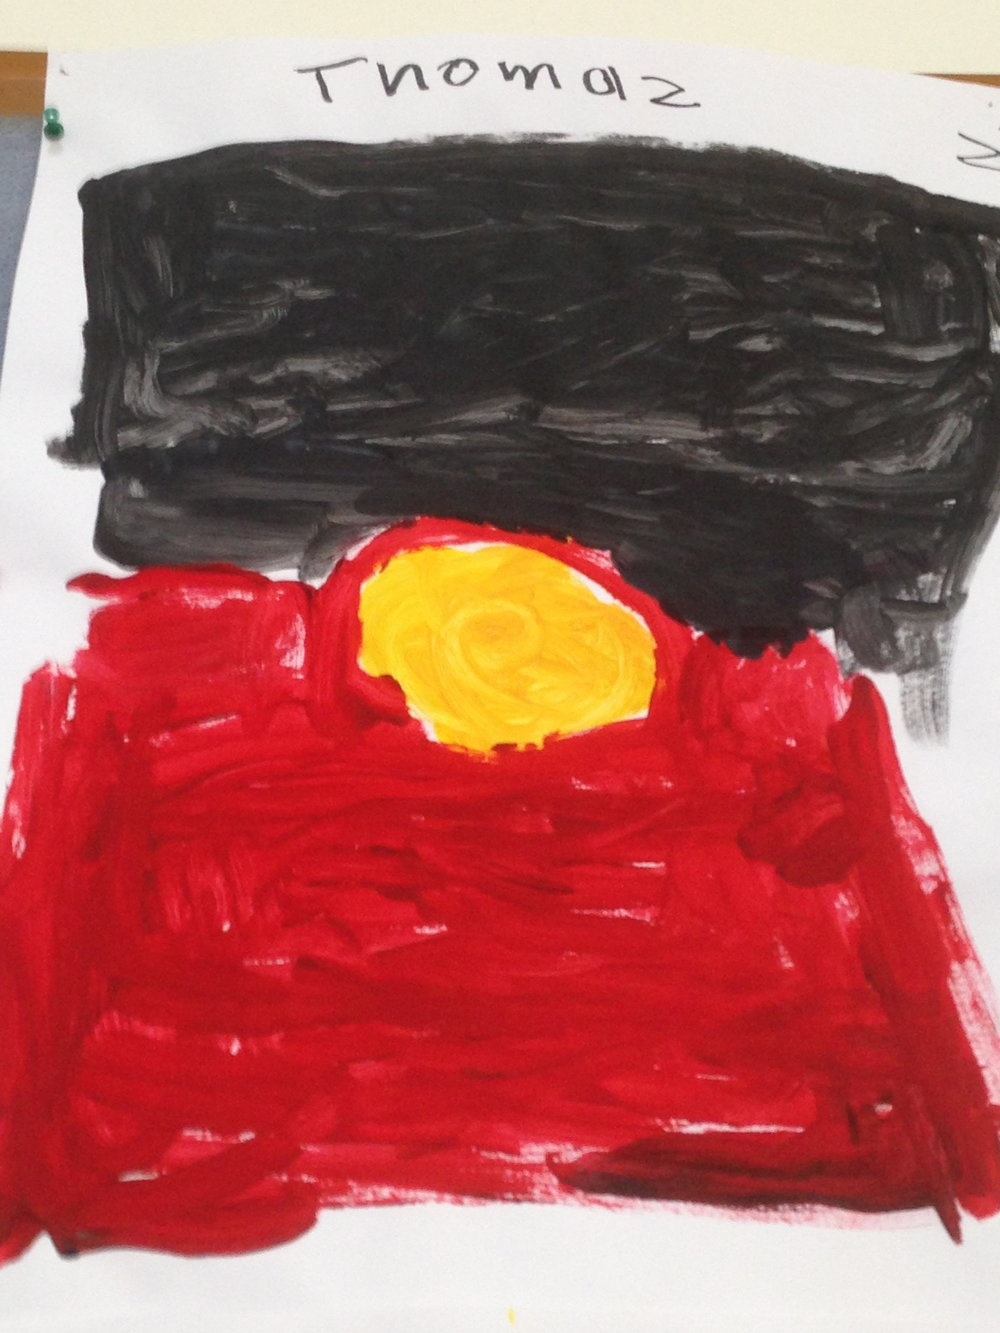aboriginal_flag: (1, 136, 1000, 1264)
